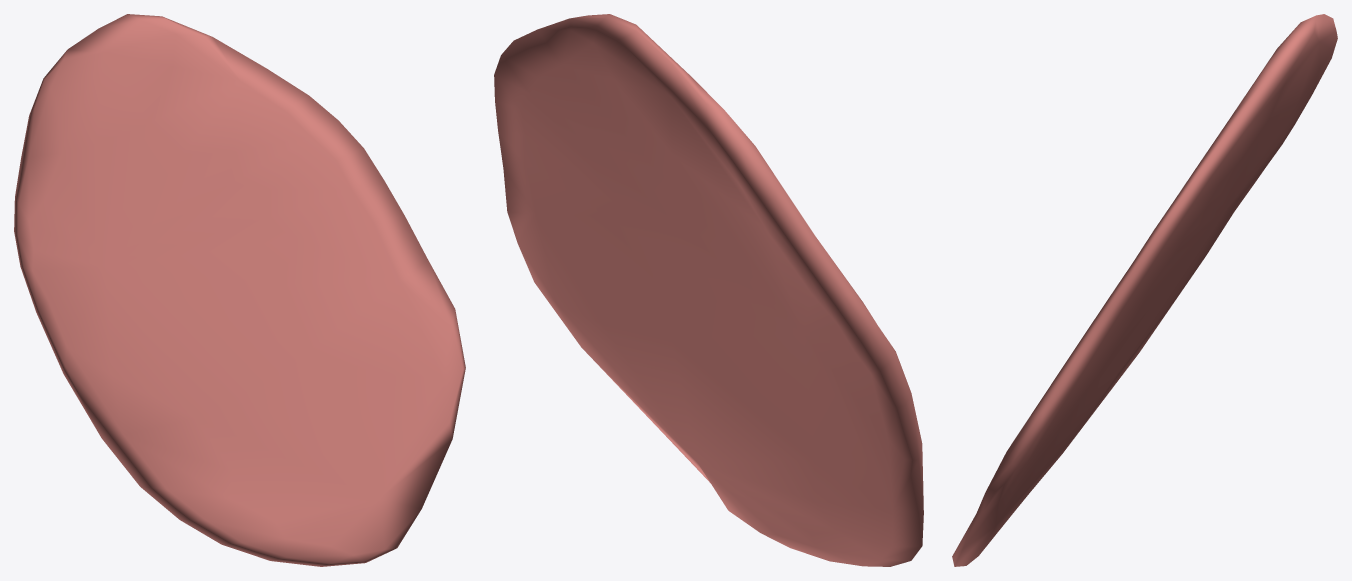
The picture shows the model from 3 angles, left to right: view 1: azimuth 30°, elevation 25°; view 2: azimuth 150°, elevation 25°; view 3: azimuth 270°, elevation 25°; orthographic projection. The views are drawn at different scales.
Parts seen in each view (by area): view 1: ZA_a427b0827ec35b77; view 2: ZA_a427b0827ec35b77; view 3: ZA_a427b0827ec35b77.
Part boxes in pixels (<box>): ZA_a427b0827ec35b77: <box>14,14,465,566</box>; ZA_a427b0827ec35b77: <box>494,14,923,566</box>; ZA_a427b0827ec35b77: <box>952,14,1337,566</box>.
Size of the model in its own units: 0.00839 by 0.0107 by 0.00739.
